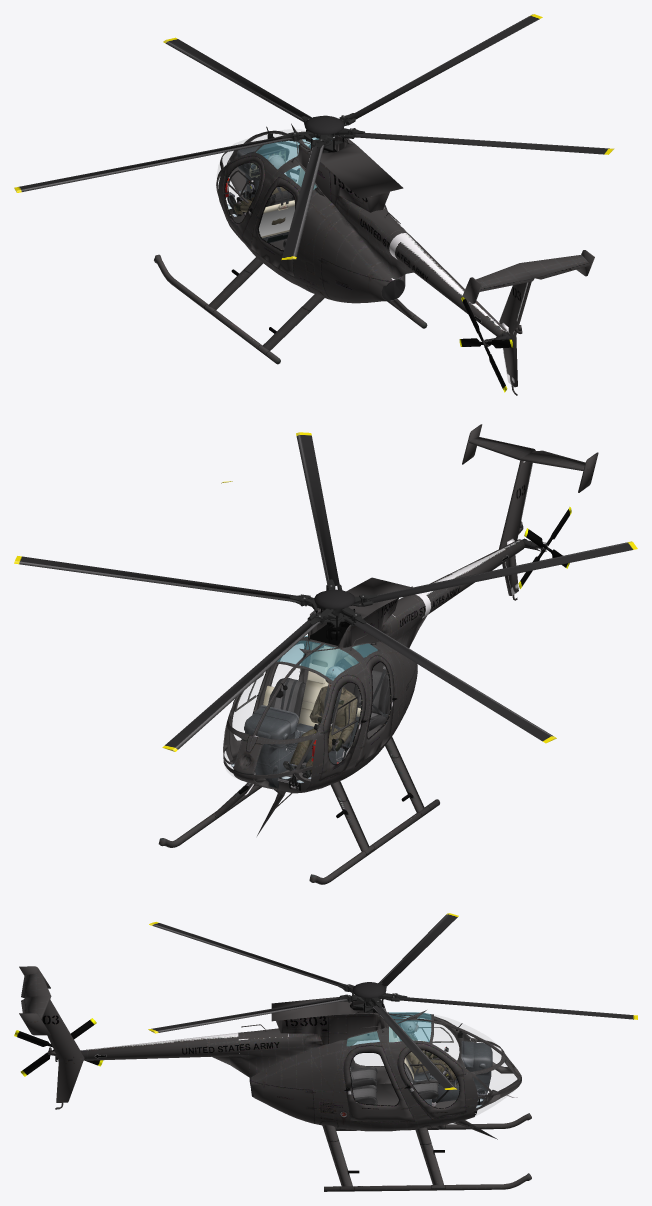
3 renders of one model, top to bottom at view 1: azimuth 30°, elevation 25°; view 2: azimuth 150°, elevation 25°; view 3: azimuth 270°, elevation 25°, orthographic. The views are drawn at different scales.
Visible parts, largest first — view 1: ext_fuse1, rotor_blades, int_fuse, ext_fuse1_skids, ext_fuse1_doors, ixt_seats1, glasss_grn, ixt_console, rotor_tail, rotor_hub, ixt_pilotR; view 2: ext_fuse1, rotor_blades, ext_fuse1_doors, ext_fuse1_skids, ixt_console, ixt_seats2, ixt_seats1, int_fuse, ixt_pilotR, glasss_grn, glass, rotor_hub (+1 smaller); view 3: ext_fuse1, rotor_blades, ext_fuse1_doors, int_fuse, ext_fuse1_skids, glass, ixt_seats2, ixt_console, glasss_grn, rotor_tail, ixt_pilotR, rotor_hub (+2 smaller).
Boxes of the visible parts, x1,y1,x2,y2 form: ext_fuse1: (216,123,594,395); rotor_blades: (14,14,614,259); int_fuse: (216,132,404,302); ext_fuse1_skids: (154,254,427,364); ext_fuse1_doors: (222,156,299,276); ixt_seats1: (259,167,316,243); glasss_grn: (256,137,318,189); ixt_console: (225,143,289,198); rotor_tail: (459,297,513,392); rotor_hub: (305,115,343,152); ixt_pilotR: (227,154,295,224); ext_fuse1: (223,424,598,835); rotor_blades: (14,432,637,751); ext_fuse1_doors: (229,640,396,780); ext_fuse1_skids: (158,481,439,884); ixt_console: (244,705,316,788); ixt_seats2: (268,660,390,750); ixt_seats1: (263,643,360,764); int_fuse: (223,637,417,791); ixt_pilotR: (283,666,357,778); glasss_grn: (277,635,377,680); glass: (224,664,299,777); rotor_hub: (314,589,355,633); ext_fuse1: (19,966,521,1139); rotor_blades: (148,913,637,1089); ext_fuse1_doors: (343,1014,466,1121); int_fuse: (249,1012,519,1131); ext_fuse1_skids: (322,1113,531,1191); glass: (354,1015,516,1115); ixt_seats2: (350,1032,438,1104); ixt_console: (432,1040,492,1104); glasss_grn: (346,1012,431,1046); rotor_tail: (14,1018,102,1076); ixt_pilotR: (401,1014,456,1080); rotor_hub: (352,982,386,1012).
Size of the model in its own units: 7.65 by 3.22 by 9.27.
14 materials, 11 textured.
